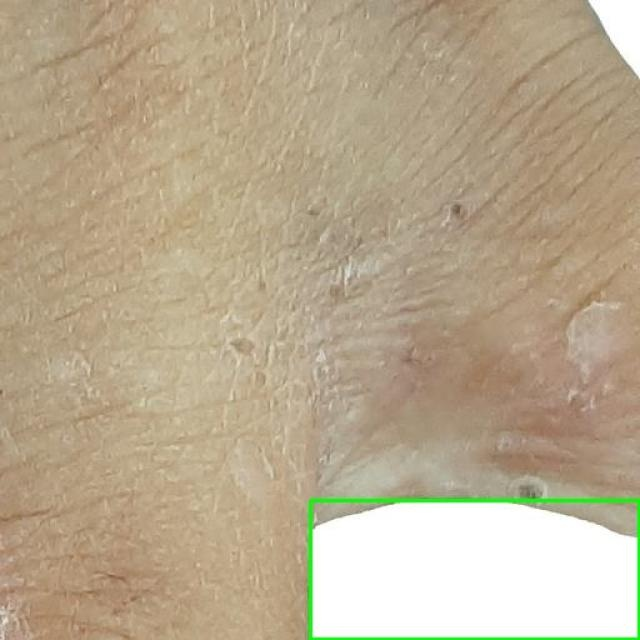Scabies: (310, 500, 639, 639)
